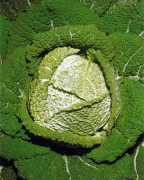cabbage: (27, 50, 124, 141)
